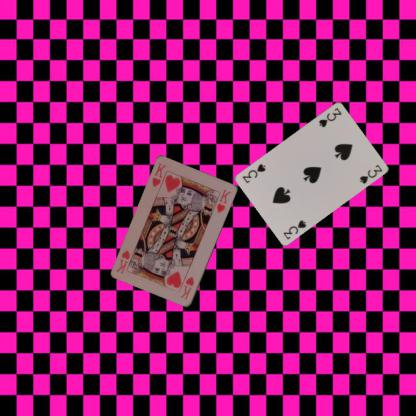3s: (316, 105, 343, 128), (281, 218, 307, 240)
Kh: (178, 274, 196, 301), (150, 160, 167, 188)
